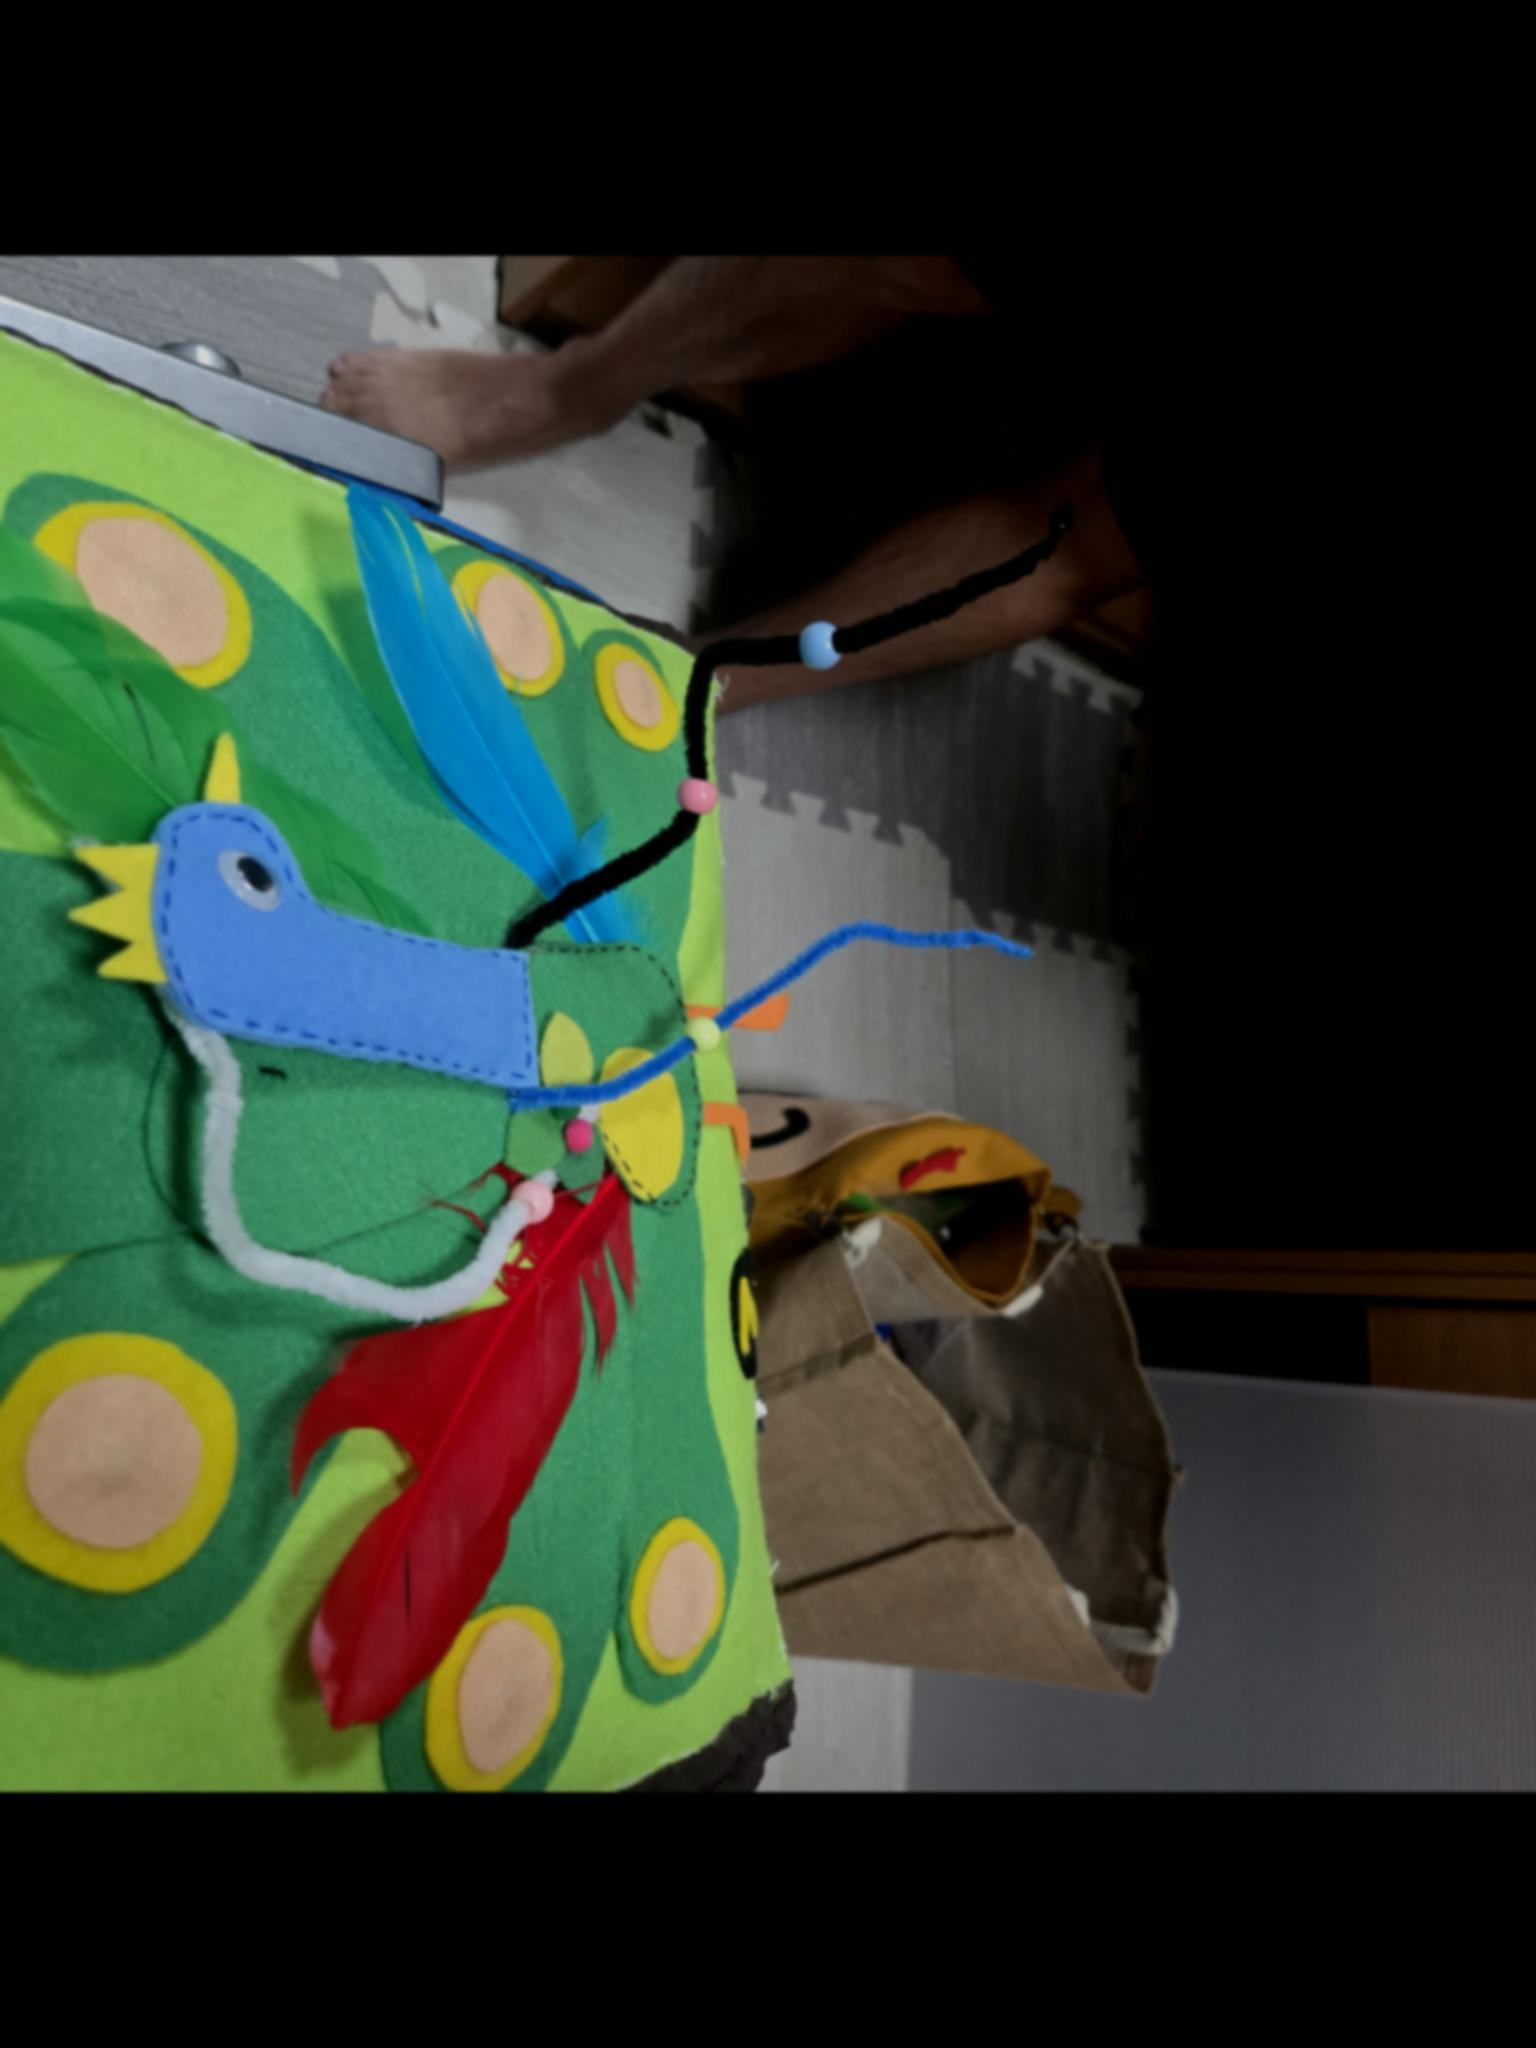bead: (778, 598, 874, 681), (660, 1003, 757, 1064), (655, 763, 741, 824)
